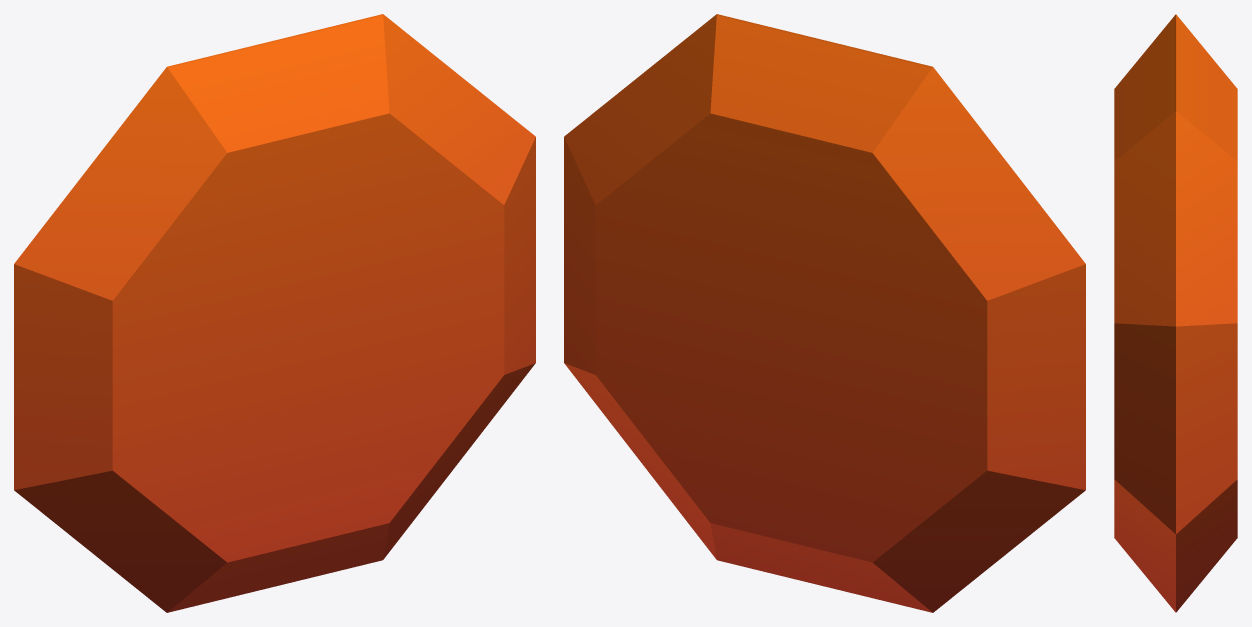
Rendered from Gem5.fbx.
3 views of the same model, side by side, from view 1: azimuth 30°, elevation 25°; view 2: azimuth 150°, elevation 25°; view 3: azimuth 270°, elevation 25° (orthographic). The views are drawn at different scales.
Visible parts, largest first — view 1: Gem5; view 2: Gem5; view 3: Gem5.
Part boxes in pixels (x1,y1,x2,y2): Gem5: (14, 14, 535, 612); Gem5: (564, 14, 1085, 612); Gem5: (1114, 14, 1237, 612).
Size of the model in its own units: 0.45 by 0.45 by 0.1.
